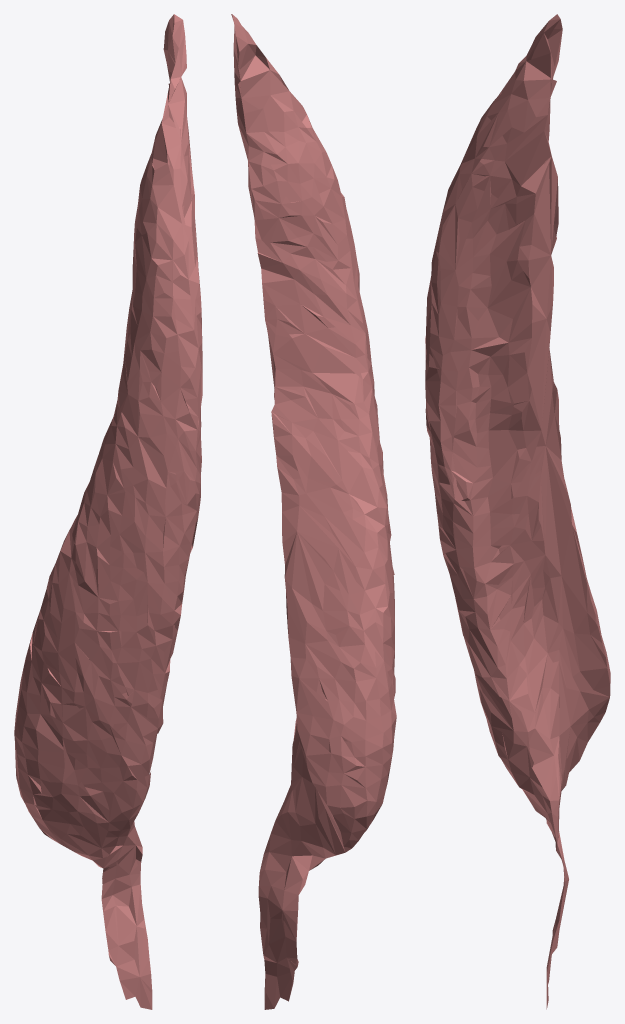
The model's file is Vastus_medialis_muscle.l.glb.
The picture shows the model from 3 angles, left to right: view 1: azimuth 30°, elevation 25°; view 2: azimuth 150°, elevation 25°; view 3: azimuth 270°, elevation 25°; orthographic projection. The views are drawn at different scales.
Visible parts, largest first — view 1: Vastus_medialis_muscle.l; view 2: Vastus_medialis_muscle.l; view 3: Vastus_medialis_muscle.l.
Part boxes in pixels (box(x1,y1,x2,y2)): Vastus_medialis_muscle.l: box(14, 14, 202, 1009); Vastus_medialis_muscle.l: box(231, 14, 396, 1009); Vastus_medialis_muscle.l: box(425, 14, 610, 1009).
Size of the model in its own units: 0.0686 by 0.4029 by 0.0672.
